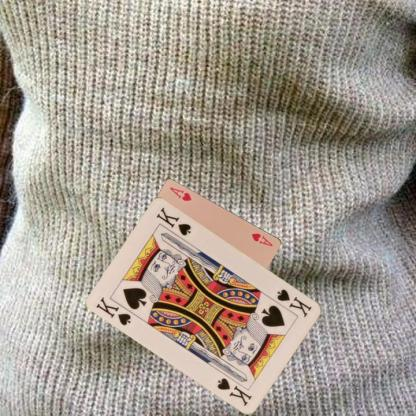Ah: (249, 230, 274, 247)
Ks: (93, 294, 133, 327), (274, 286, 314, 318)
